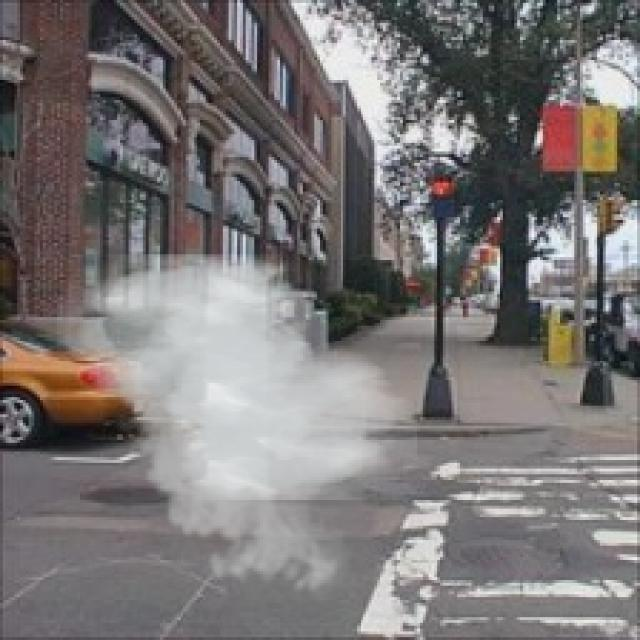Smoke: (57, 254, 417, 603)
